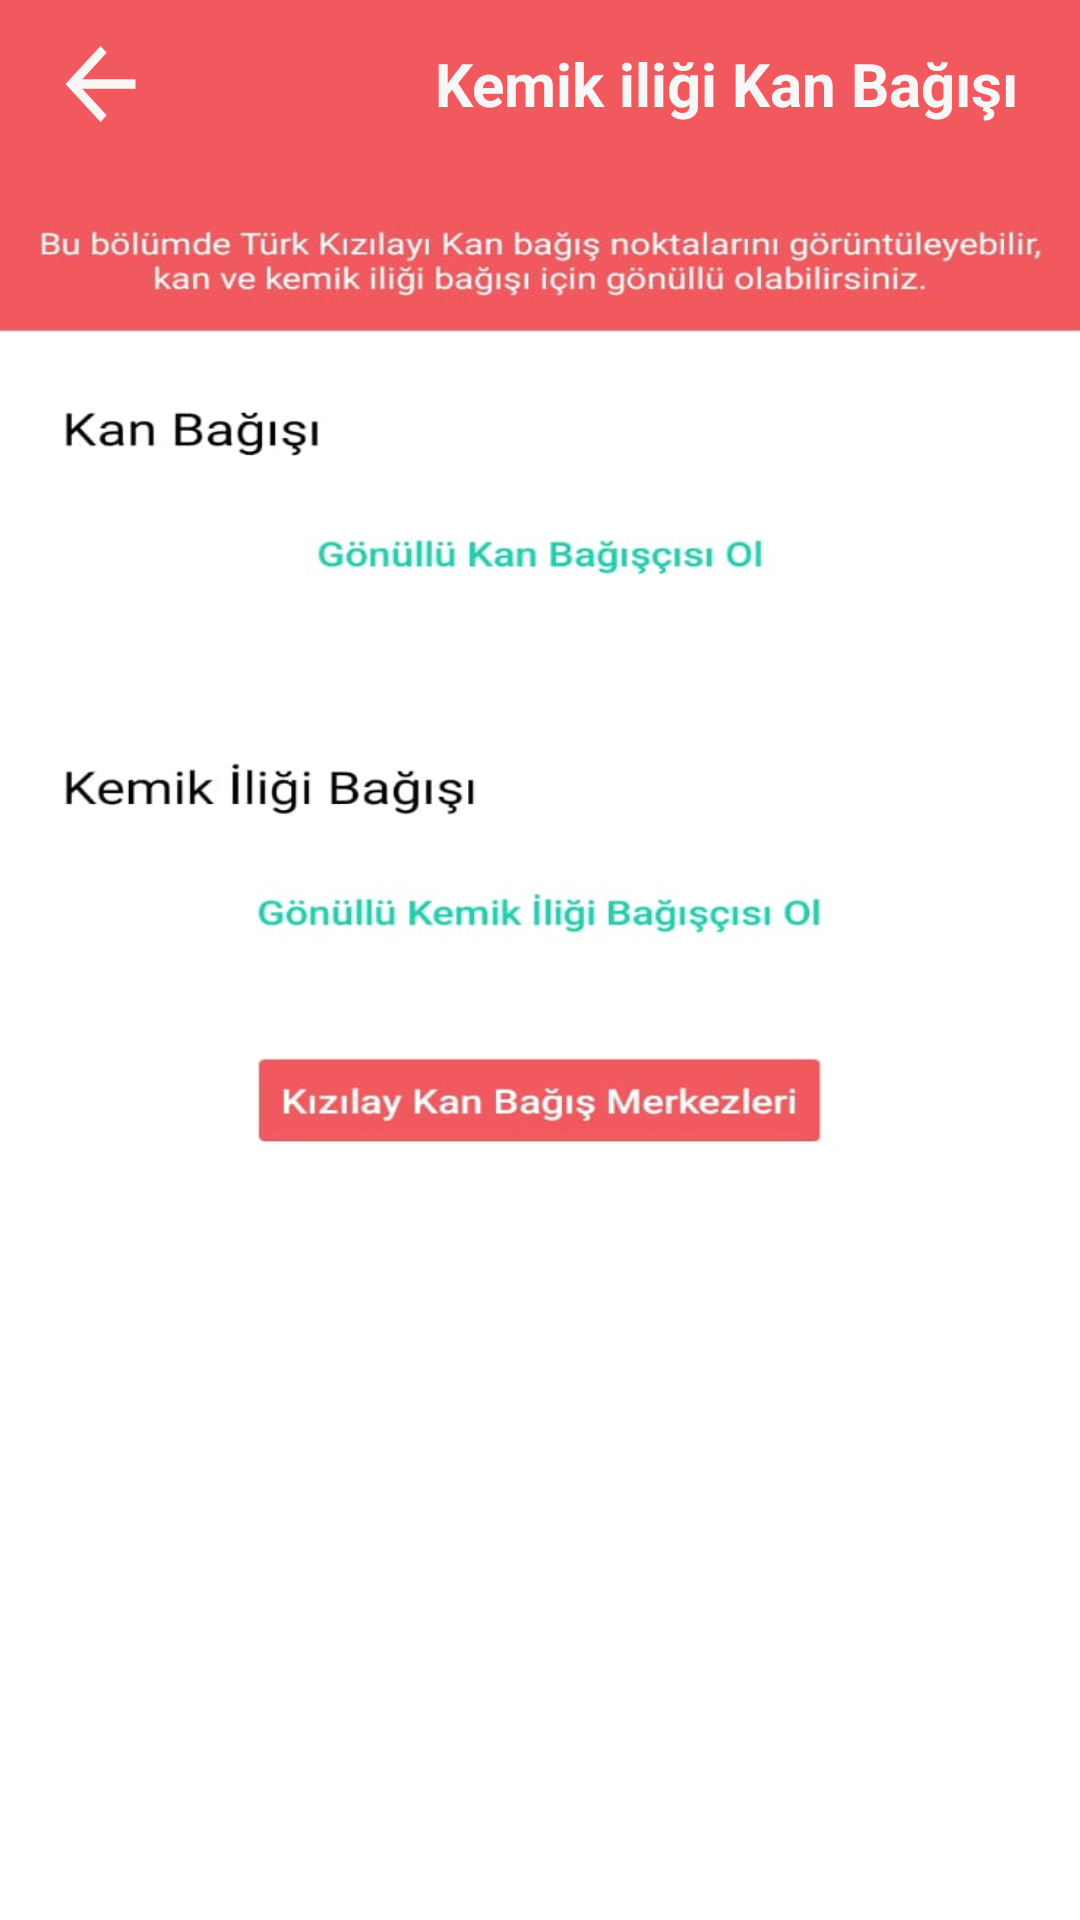

Locate icon controls on the screen. Image size 1080 x 1920, boxes as (x1, y1, x2, y2).
arrow back: (66, 46, 136, 122)
